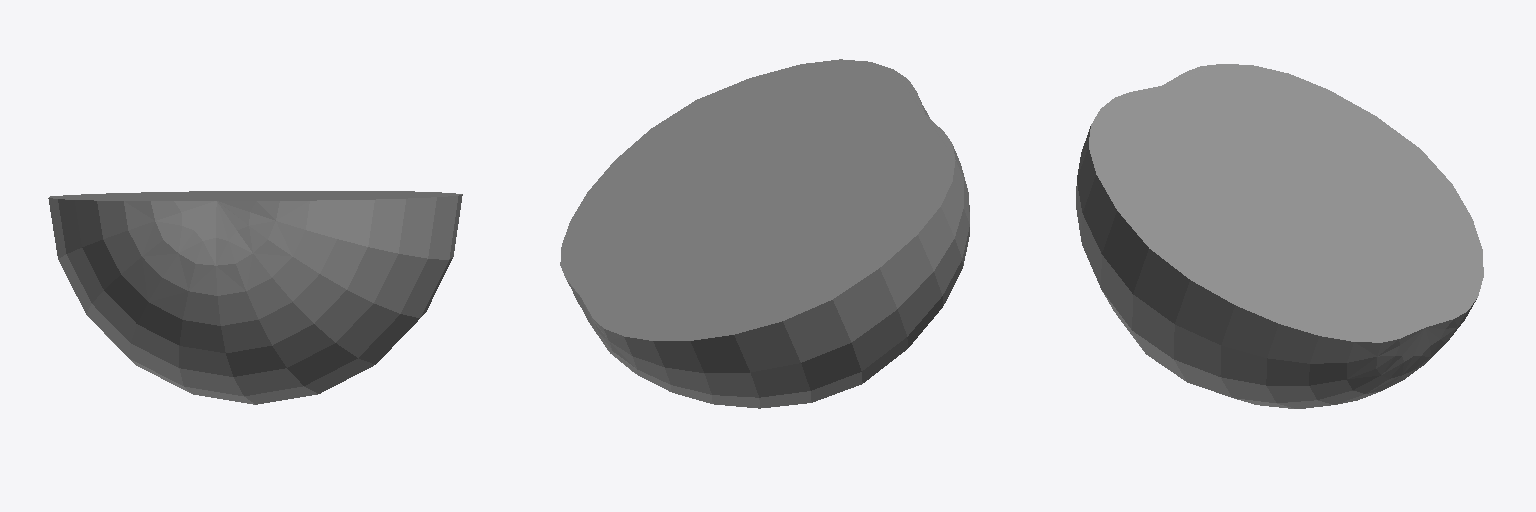
The model's file is half_watermelon.obj.
3 renders of one model, left to right at view 1: azimuth 30°, elevation 25°; view 2: azimuth 150°, elevation 25°; view 3: azimuth 270°, elevation 25°, orthographic.
Visible parts, largest first — view 1: Model_044_Watermelon_02; view 2: Model_044_Watermelon_02; view 3: Model_044_Watermelon_02.
Part boxes in pixels (bbox=[...]): Model_044_Watermelon_02: bbox=[48, 191, 462, 404]; Model_044_Watermelon_02: bbox=[560, 59, 969, 408]; Model_044_Watermelon_02: bbox=[1076, 64, 1483, 408].
Size of the model in its own units: 2.54 by 1.75 by 2.49.